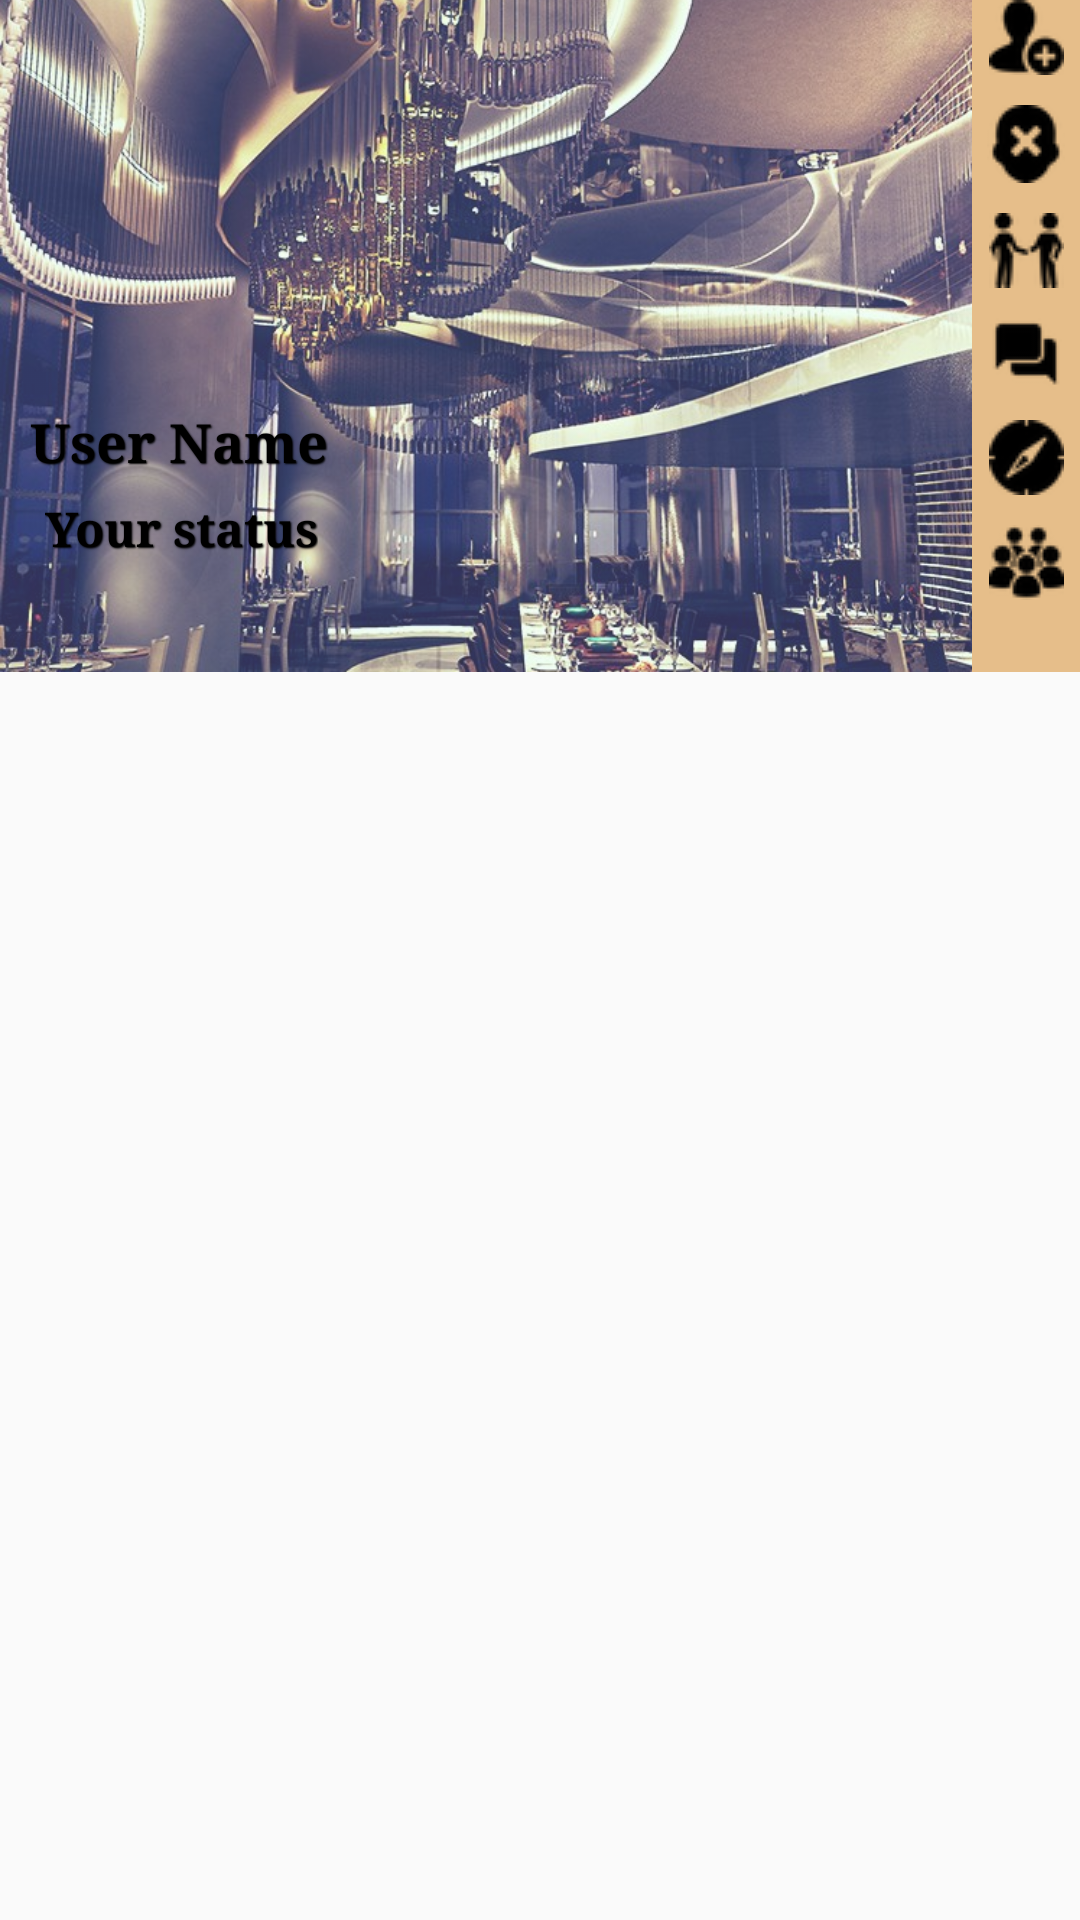

Point at icon controls on the screen. Image size 1080px×1920px, points as point (x, y).
add friend: point (1026, 37)
delete user: point (1026, 144)
rsz chat: point (1026, 354)
rsz friends: point (1026, 250)
rsz map: point (1026, 457)
